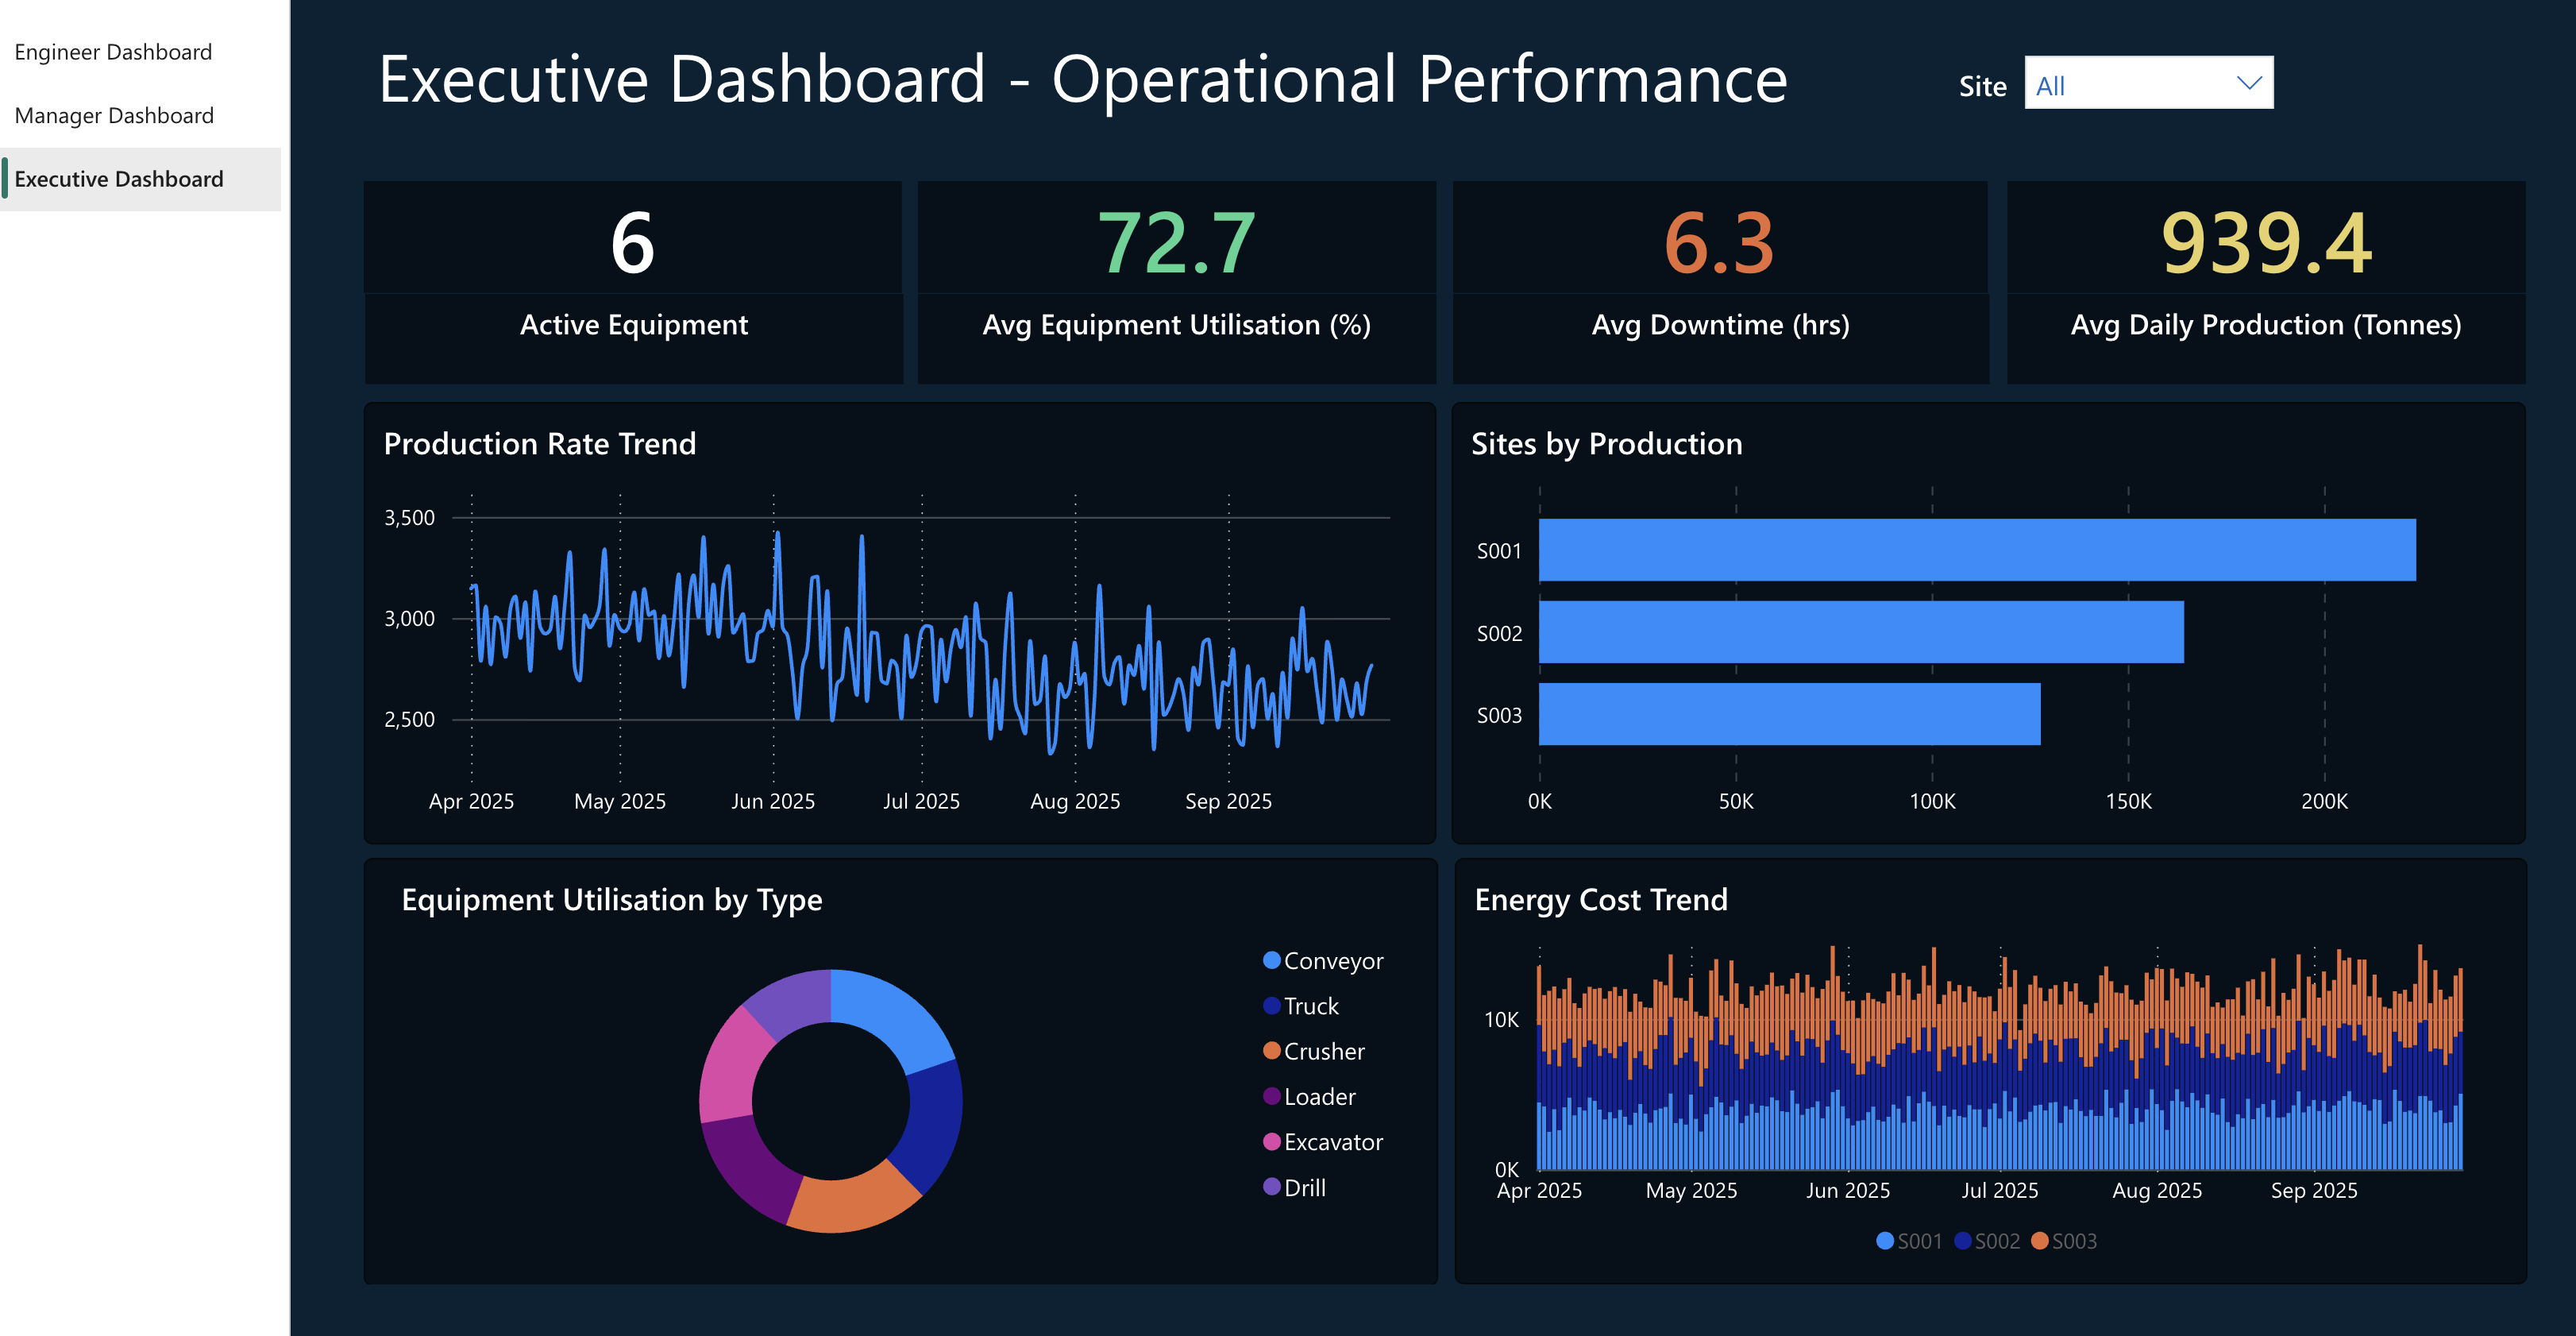

What the dashboard file says about the page in this screenshot:
{"tool":"powerbi","page":{"name":"Executive Dashboard","canvas":[1280,720],"ordinal":2},"visuals":[{"type":"textbox","box":[9.9,12.9,866.9,74.5],"z":0},{"type":"slicer","title":"Site","fields":{"Values":["site_info.Site_Name"]},"box":[960.2,22.8,158.9,41.7],"z":1000},{"type":"card","title":"Total Production","fields":{"Values":["Count(equipment.Equipment_Type)"]},"box":[40.7,103.3,300.9,62.6],"z":2000},{"type":"card","title":"Runtime Hours","fields":{"Values":["equipment.Utilisation_%"]},"box":[350.5,103.3,290,62.6],"z":3000},{"type":"card","title":"Energy Cost","fields":{"Values":["Avg(equipment.Downtime_Hours)"]},"box":[650.4,103.3,298.9,62.6],"z":4000},{"type":"card","title":"Fuel Used","fields":{"Values":["Avg(production.Quantity_Tonnes)"]},"box":[960.2,103.3,290,62.6],"z":5000},{"type":"lineChart","title":"Production Rate Trend","fields":{"Y":["Sum(production.Quantity_Tonnes)"],"Category":["production.Date"]},"box":[40.7,226.4,599.8,247.3],"z":6000},{"type":"clusteredBarChart","title":"Sites by Production","fields":{"Category":["production.Site_ID"],"Y":["Sum(production.Quantity_Tonnes)"]},"box":[649.4,226.4,600.8,247.3],"z":7000},{"type":"donutChart","title":"Equipment Utilisation by Type","fields":{"Y":["equipment.Utilisation_%"],"Category":["equipment.Equipment_Type"]},"box":[40.7,481.6,600.8,239.3],"z":8000},{"type":"lineStackedColumnComboChart","title":"Energy Cost Trend","fields":{"Category":["cost.Date"],"Series":["cost.Site_ID"],"Y":["Sum(cost.Energy_Cost_AUD)"]},"box":[650.7,481.7,599.8,238.3],"z":9000},{"type":"textbox","box":[928.5,32.8,40.7,37.7],"z":10000},{"type":"textbox","box":[41.7,165.8,300.9,50.6],"z":11000},{"type":"textbox","box":[350.5,165.8,290,50.6],"z":12000},{"type":"textbox","box":[650.4,165.8,299.9,50.6],"z":13000},{"type":"textbox","box":[960.2,165.8,290,50.6],"z":14000}]}

Visuals, with their boxes on the page's 1280x720 design canvas (x1, y1, x2, y2). These are canvas units, not pixel positions in the 2576x1336 screenshot, which may show the page scaled, cropped or inside an application window:
textbox: <bbox>10, 13, 877, 87</bbox>
"Site" slicer: <bbox>960, 23, 1119, 64</bbox>
"Total Production" card: <bbox>41, 103, 342, 166</bbox>
"Runtime Hours" card: <bbox>350, 103, 640, 166</bbox>
"Energy Cost" card: <bbox>650, 103, 949, 166</bbox>
"Fuel Used" card: <bbox>960, 103, 1250, 166</bbox>
"Production Rate Trend" lineChart: <bbox>41, 226, 640, 474</bbox>
"Sites by Production" clusteredBarChart: <bbox>649, 226, 1250, 474</bbox>
"Equipment Utilisation by Type" donutChart: <bbox>41, 482, 642, 721</bbox>
"Energy Cost Trend" lineStackedColumnComboChart: <bbox>651, 482, 1250, 720</bbox>
textbox: <bbox>928, 33, 969, 70</bbox>
textbox: <bbox>42, 166, 343, 216</bbox>
textbox: <bbox>350, 166, 640, 216</bbox>
textbox: <bbox>650, 166, 950, 216</bbox>
textbox: <bbox>960, 166, 1250, 216</bbox>
